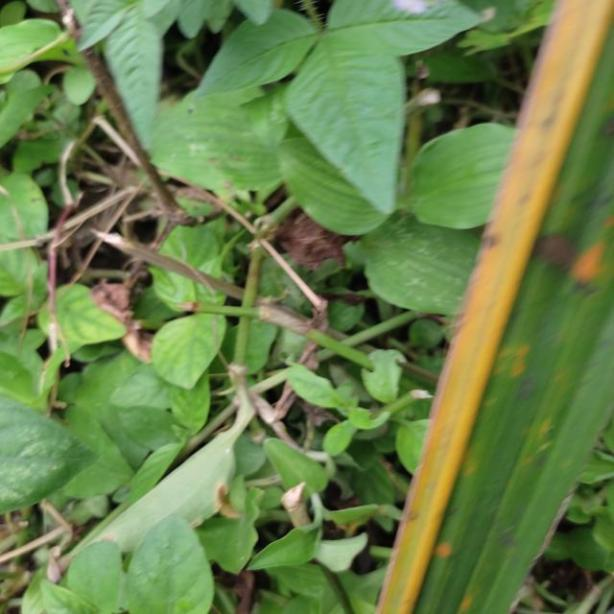Megnesium: (377, 0, 614, 614)
